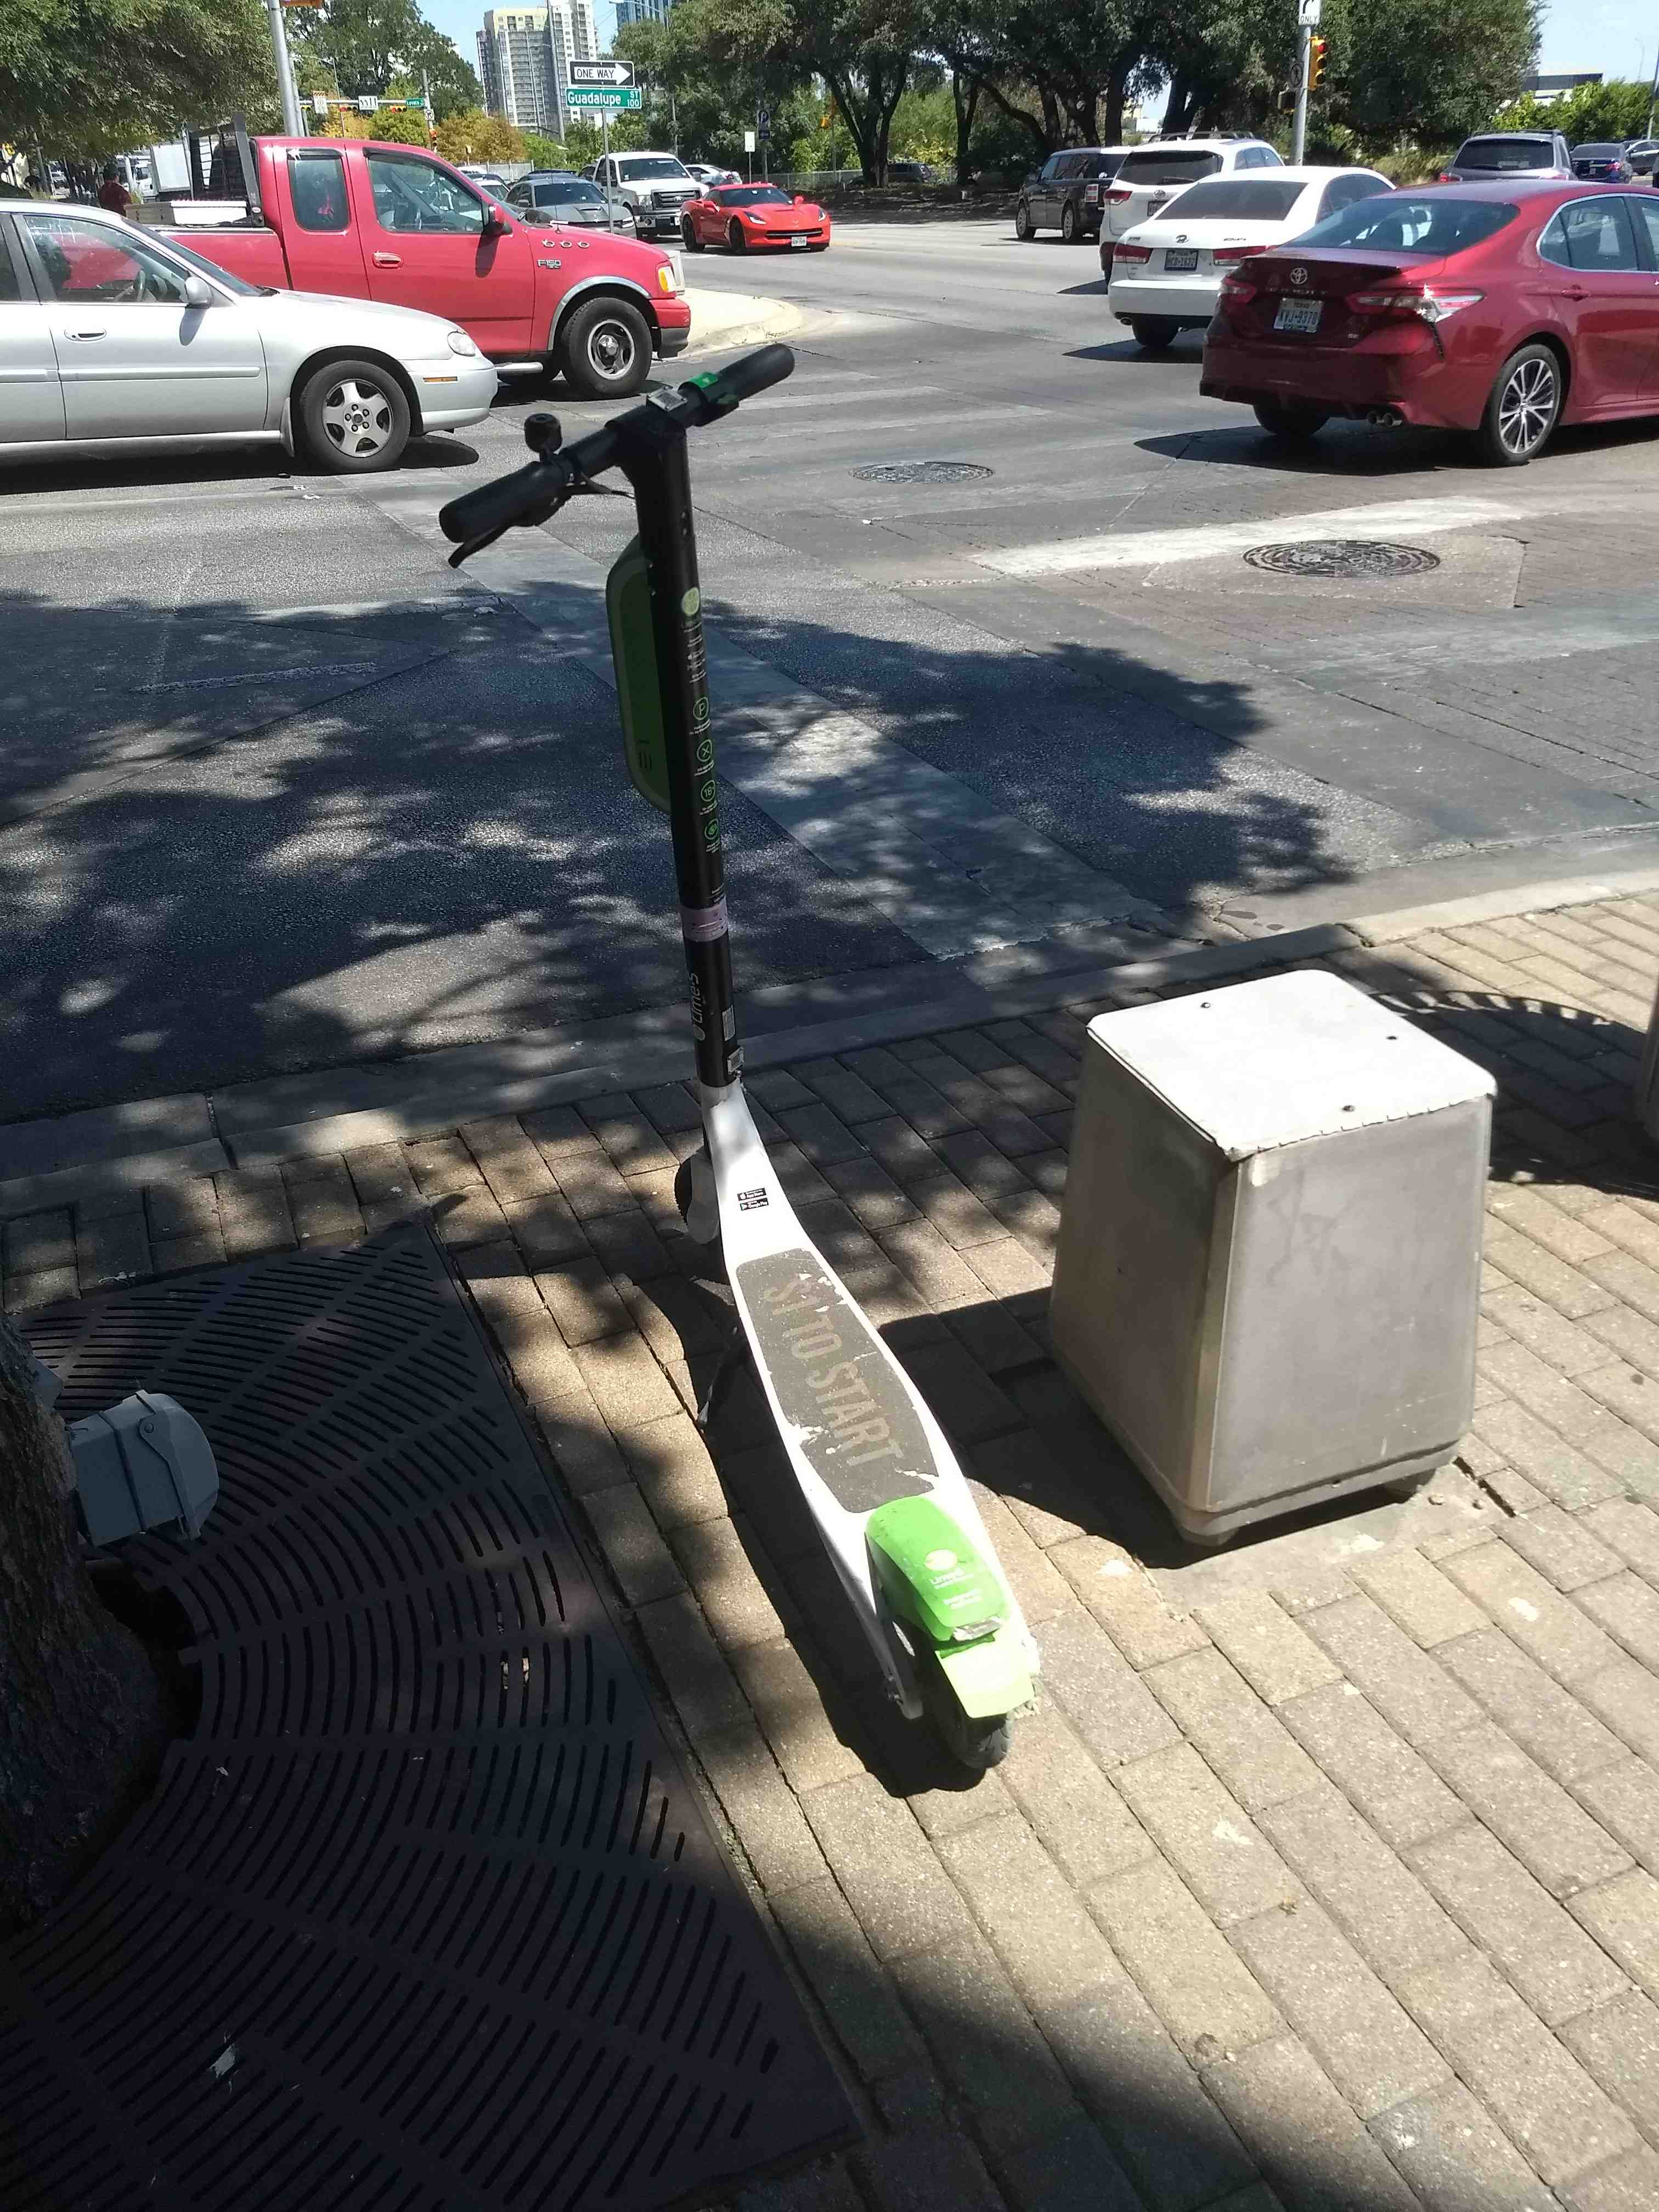scooter: (411, 350, 1094, 1827)
